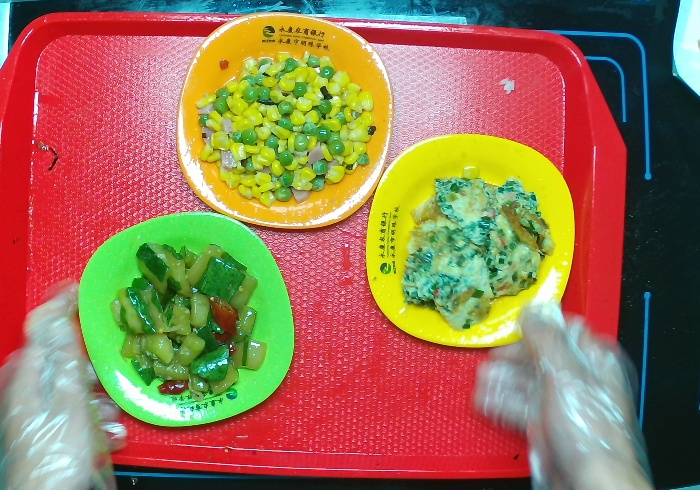YKMZ-Huang_Se_Fang_Die: (365, 131, 577, 350)
YKMZ-Ju_Se_Fang_Die: (175, 10, 397, 233)
YKMZ-Lv_Se_Fang_Die: (77, 210, 298, 431)
